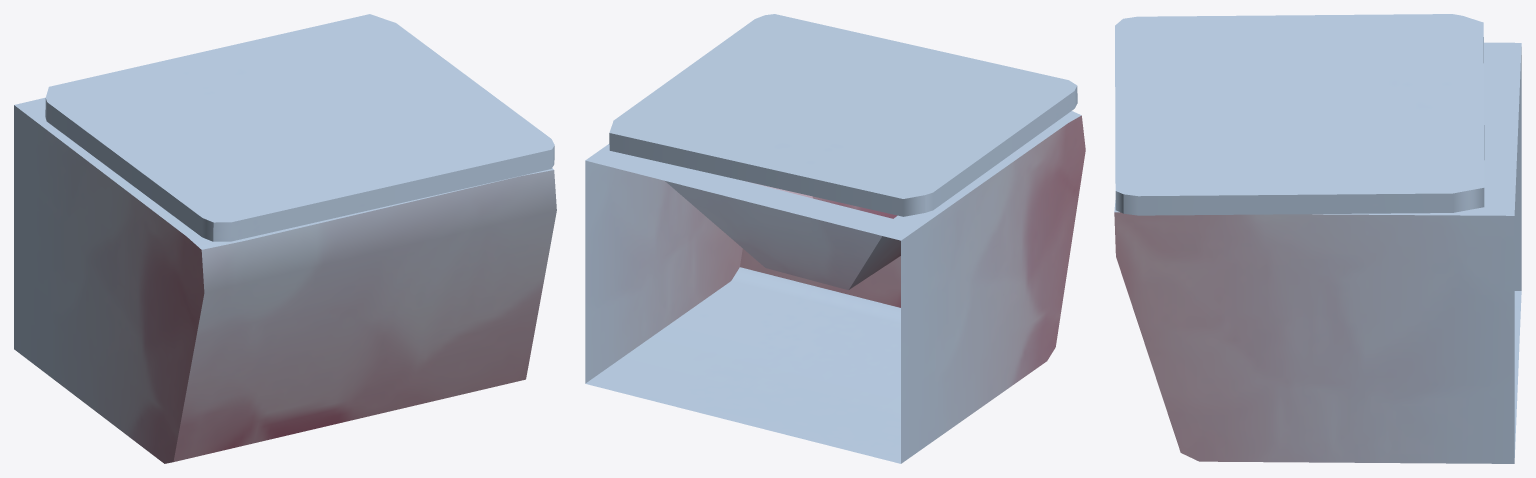
The model's file is Toilet_Closed.fbx.
The picture shows the model from 3 angles, left to right: view 1: azimuth 30°, elevation 25°; view 2: azimuth 150°, elevation 25°; view 3: azimuth 270°, elevation 25°; orthographic projection. The views are drawn at different scales.
Parts seen in each view (by area): view 1: toiletopenm; view 2: toiletopenm; view 3: toiletopenm.
Boxes of the visible parts, x1,y1,x2,y2 form: toiletopenm: [14, 14, 556, 463]; toiletopenm: [585, 14, 1085, 463]; toiletopenm: [1114, 14, 1521, 463].
Bounding box in the file's own units: 46.97 × 34.43 × 45.96.
